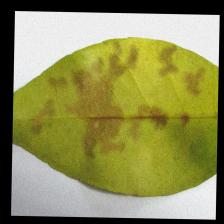canker: (52, 46, 201, 137)
